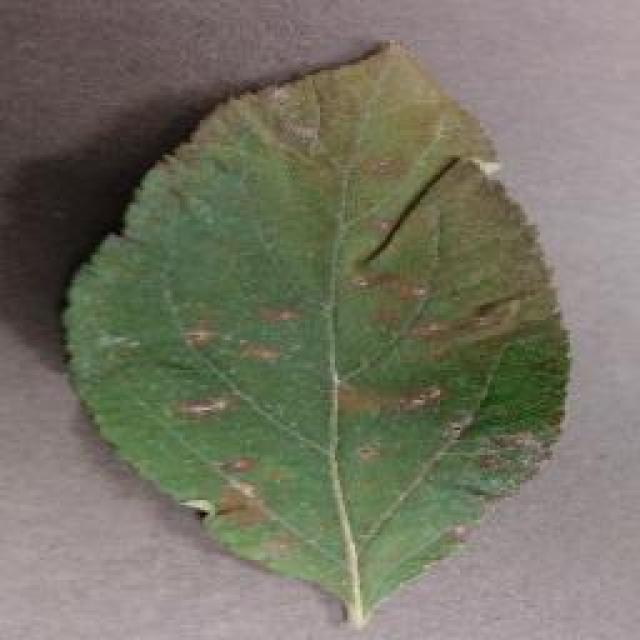apple rust disease: (57, 35, 575, 627)
